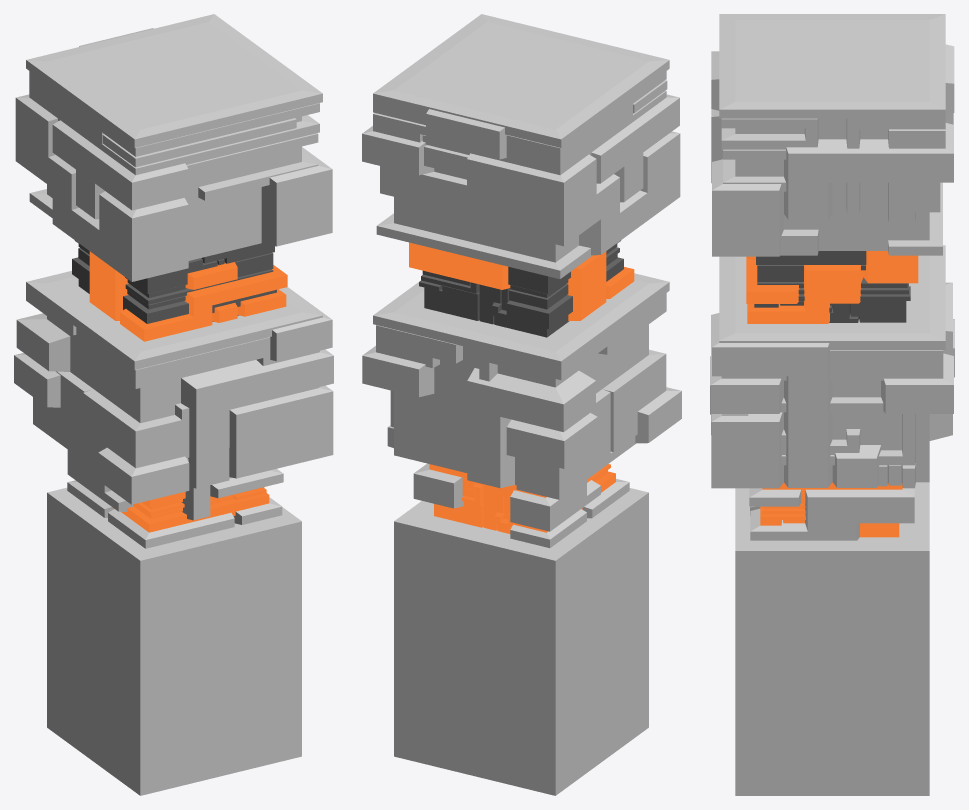
File: FragmentTowerBig.glb
3 renders of one model, left to right at view 1: azimuth 30°, elevation 25°; view 2: azimuth 150°, elevation 25°; view 3: azimuth 270°, elevation 25°, orthographic. The views are drawn at different scales.
Parts seen in each view (by area): view 1: Cube.011, Cube.011_RLExtr.004, Cube.011_RLExtr.006, Cube.011_RLExtr.007, Cube.011_RLExtr.005, Cube.011_RLExtr.002, Cube.011_RLExtr, Cube.011_RLExtr.003, Cube.011_RLExtr.001; view 2: Cube.011, Cube.011_RLExtr.006, Cube.011_RLExtr.007, Cube.011_RLExtr.005, Cube.011_RLExtr.004, Cube.011_RLExtr.003, Cube.011_RLExtr, Cube.011_RLExtr.002, Cube.011_RLExtr.001; view 3: Cube.011, Cube.011_RLExtr.004, Cube.011_RLExtr.007, Cube.011_RLExtr.006, Cube.011_RLExtr.005, Cube.011_RLExtr, Cube.011_RLExtr.002, Cube.011_RLExtr.003, Cube.011_RLExtr.001.
Part boxes in pixels (x1,y1,x2,y2): Cube.011: [47, 22, 301, 795]; Cube.011_RLExtr.004: [14, 287, 333, 504]; Cube.011_RLExtr.006: [15, 28, 332, 281]; Cube.011_RLExtr.007: [26, 14, 322, 217]; Cube.011_RLExtr.005: [26, 271, 322, 471]; Cube.011_RLExtr.002: [89, 251, 287, 341]; Cube.011_RLExtr: [67, 450, 283, 548]; Cube.011_RLExtr.003: [72, 240, 276, 323]; Cube.011_RLExtr.001: [113, 487, 269, 532]; Cube.011: [394, 22, 648, 795]; Cube.011_RLExtr.006: [362, 94, 680, 255]; Cube.011_RLExtr.007: [373, 14, 669, 278]; Cube.011_RLExtr.005: [373, 273, 669, 499]; Cube.011_RLExtr.004: [362, 346, 681, 488]; Cube.011_RLExtr.003: [419, 240, 623, 337]; Cube.011_RLExtr: [413, 463, 629, 547]; Cube.011_RLExtr.002: [409, 242, 634, 320]; Cube.011_RLExtr.001: [429, 464, 615, 533]; Cube.011: [735, 20, 929, 795]; Cube.011_RLExtr.004: [710, 282, 954, 488]; Cube.011_RLExtr.007: [719, 14, 945, 255]; Cube.011_RLExtr.006: [711, 44, 954, 256]; Cube.011_RLExtr.005: [719, 245, 945, 488]; Cube.011_RLExtr: [749, 488, 914, 540]; Cube.011_RLExtr.002: [746, 251, 918, 323]; Cube.011_RLExtr.003: [754, 251, 910, 322]; Cube.011_RLExtr.001: [760, 482, 902, 537].
Bounding box in the file's own units: 5.88 × 18.45 × 5.9.
